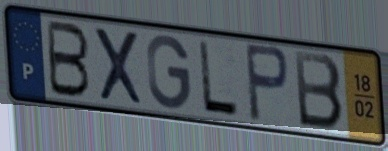B: (291, 48, 345, 133), (45, 17, 93, 101)
G: (145, 33, 193, 112)
L: (196, 38, 242, 120)
P: (242, 41, 292, 126)
X: (90, 24, 146, 109)
